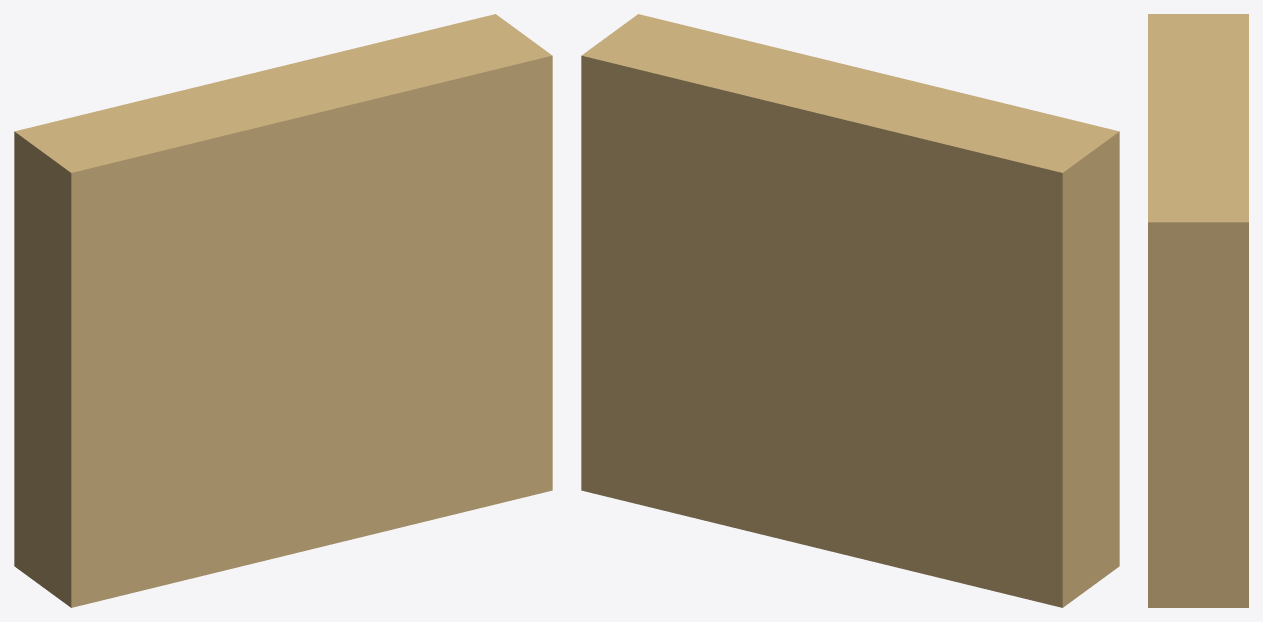
The picture shows the model from 3 angles, left to right: view 1: azimuth 30°, elevation 25°; view 2: azimuth 150°, elevation 25°; view 3: azimuth 270°, elevation 25°; orthographic projection. The views are drawn at different scales.
Visible parts, largest first — view 1: GF-L12-BLK-EDGE-W-011; view 2: GF-L12-BLK-EDGE-W-011; view 3: GF-L12-BLK-EDGE-W-011.
Boxes of the visible parts, x1=… form: GF-L12-BLK-EDGE-W-011: x1=14, y1=14, x2=552, y2=607; GF-L12-BLK-EDGE-W-011: x1=581, y1=14, x2=1119, y2=607; GF-L12-BLK-EDGE-W-011: x1=1148, y1=14, x2=1248, y2=607.
Size of the model in its own units: 0.22 by 0.19 by 0.045.
